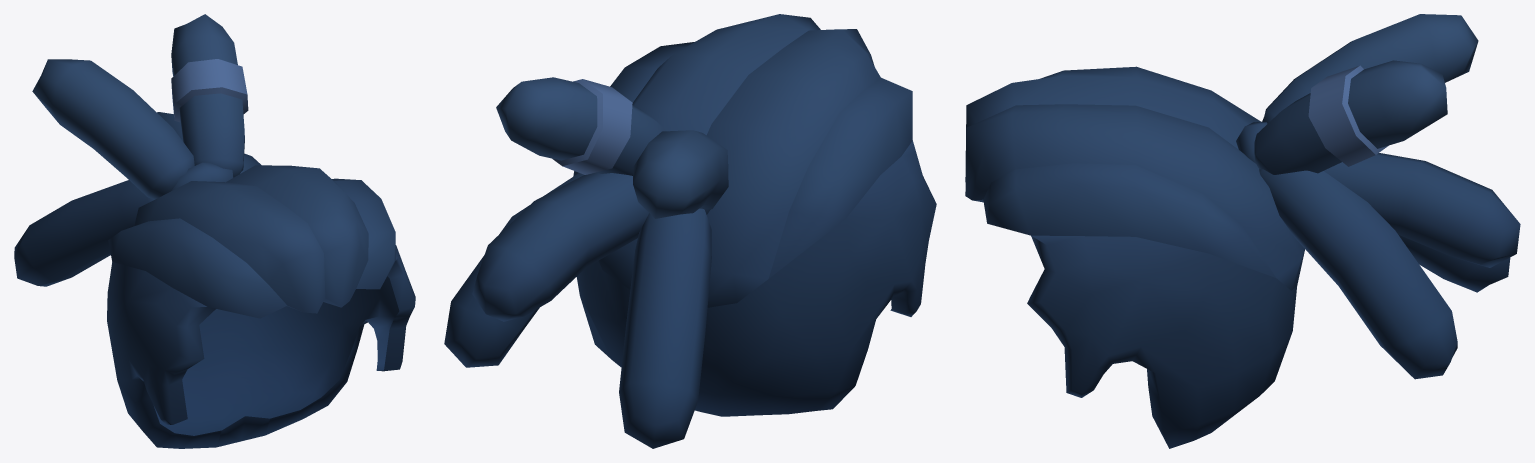
File: Hair_Blue_13.fbx
The picture shows the model from 3 angles, left to right: view 1: azimuth 30°, elevation 25°; view 2: azimuth 150°, elevation 25°; view 3: azimuth 270°, elevation 25°; orthographic projection. The views are drawn at different scales.
Visible parts, largest first — view 1: Hair_Blue_13; view 2: Hair_Blue_13; view 3: Hair_Blue_13.
Part boxes in pixels (left/top/right/bottom): Hair_Blue_13: left=14, top=14, right=415, bottom=448; Hair_Blue_13: left=444, top=14, right=936, bottom=448; Hair_Blue_13: left=965, top=14, right=1520, bottom=448.
Bounding box in the file's own units: 53.97 × 66.3 × 85.25.
